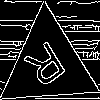R: (23, 39, 73, 98)
